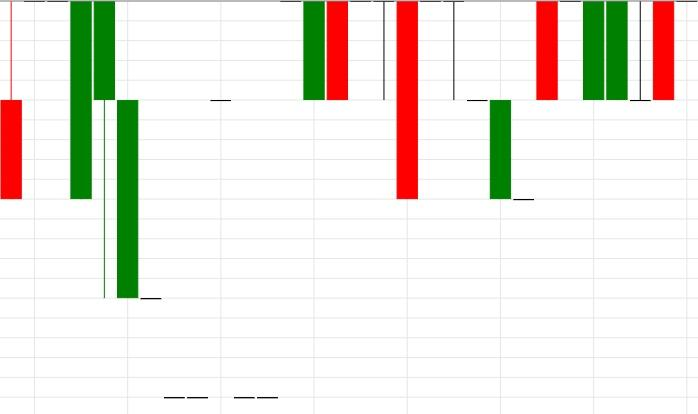evening_star_fall: (489, 0, 605, 201)
